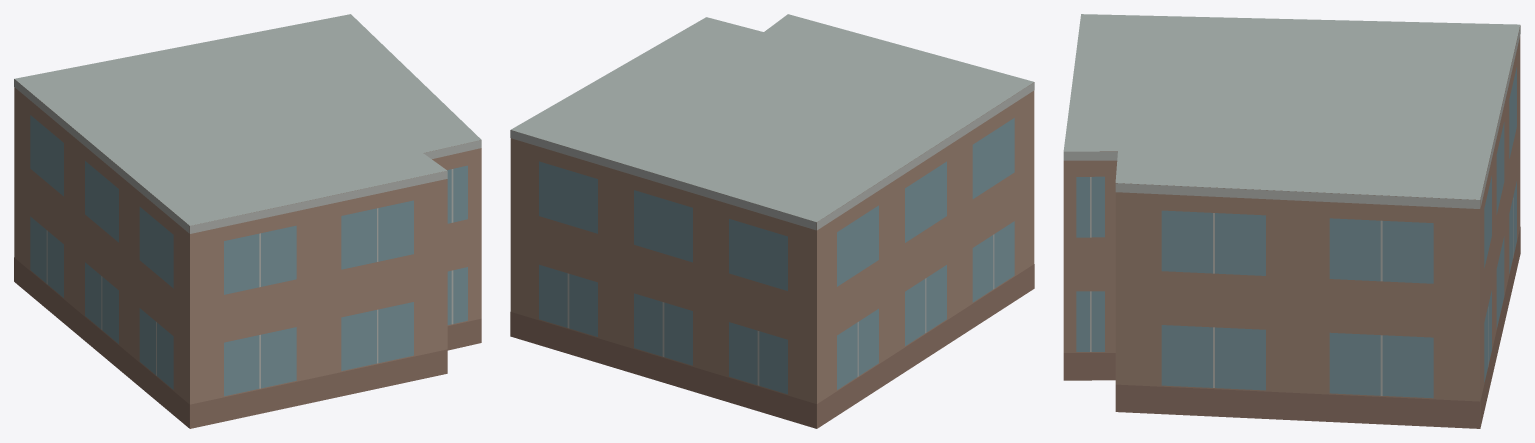
The model's file is survey-upis-32909889.glb.
3 renders of one model, left to right at view 1: azimuth 30°, elevation 25°; view 2: azimuth 150°, elevation 25°; view 3: azimuth 270°, elevation 25°, orthographic. The views are drawn at different scales.
Parts seen in each view (by area): view 1: survey-upis-32909889.tmp; view 2: survey-upis-32909889.tmp; view 3: survey-upis-32909889.tmp.
Boxes of the visible parts, left/top/right/bottom form: survey-upis-32909889.tmp: left=14, top=14, right=481, bottom=428; survey-upis-32909889.tmp: left=510, top=14, right=1034, bottom=428; survey-upis-32909889.tmp: left=1063, top=14, right=1520, bottom=428.
Bounding box in the file's own units: 10.64 × 6.1 × 11.05.
